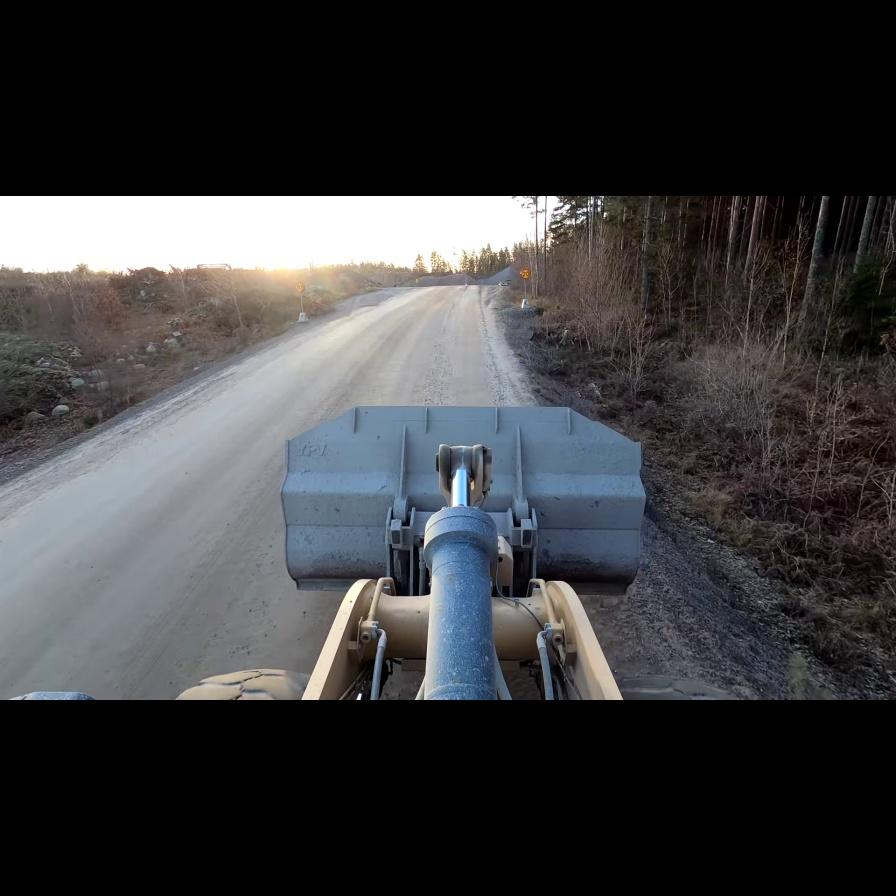anchor: (436, 444, 491, 508)
